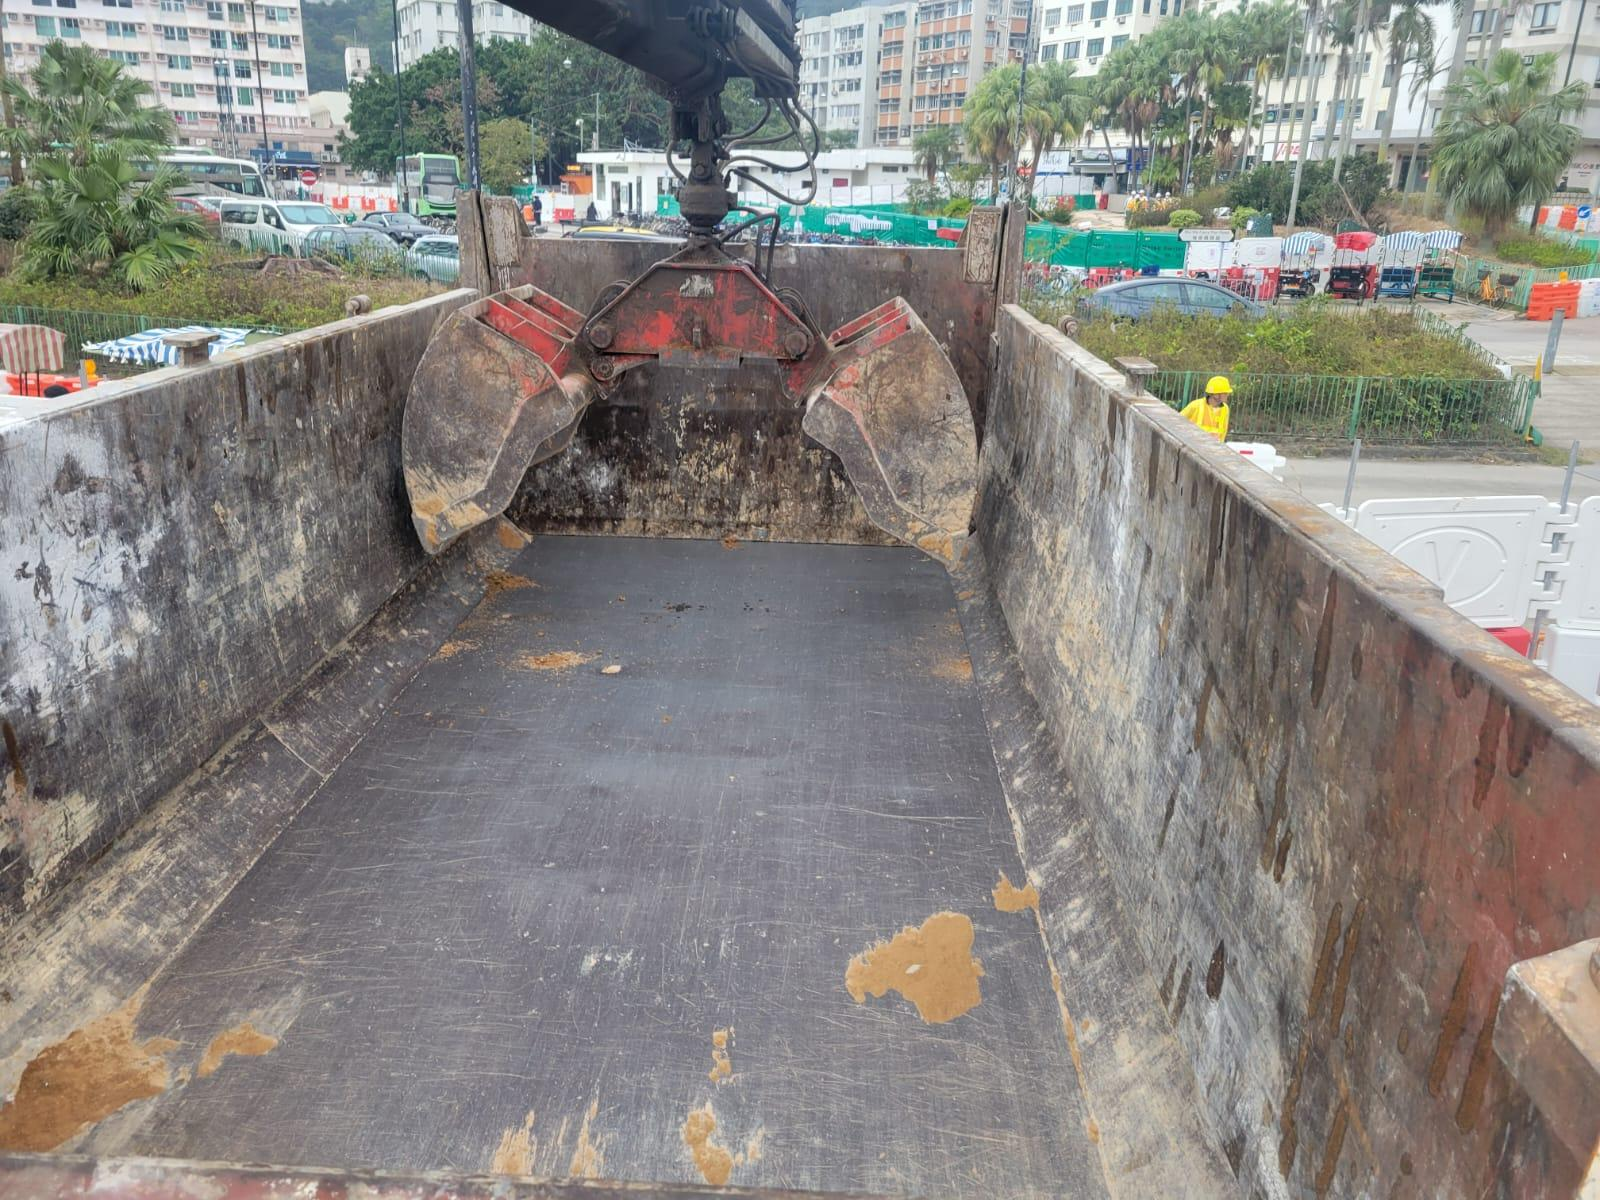nothing: (57, 527, 1111, 1190)
